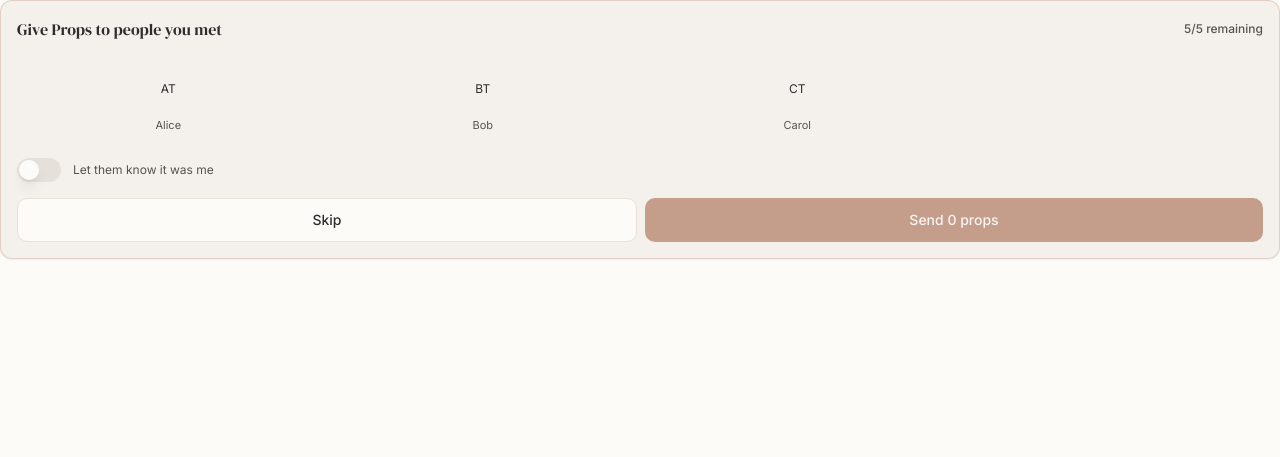
Test: GivePropsFlow › renders attendees after loading and shows 6 prop types
Expected: the text "Alice" is shown, [155, 118, 181, 132]
Expected: the text "Bob" is shown, [472, 118, 493, 132]
# Click on Alice to show prop types
Click the button "AT Alice" at (168, 99), box [17, 57, 320, 142]
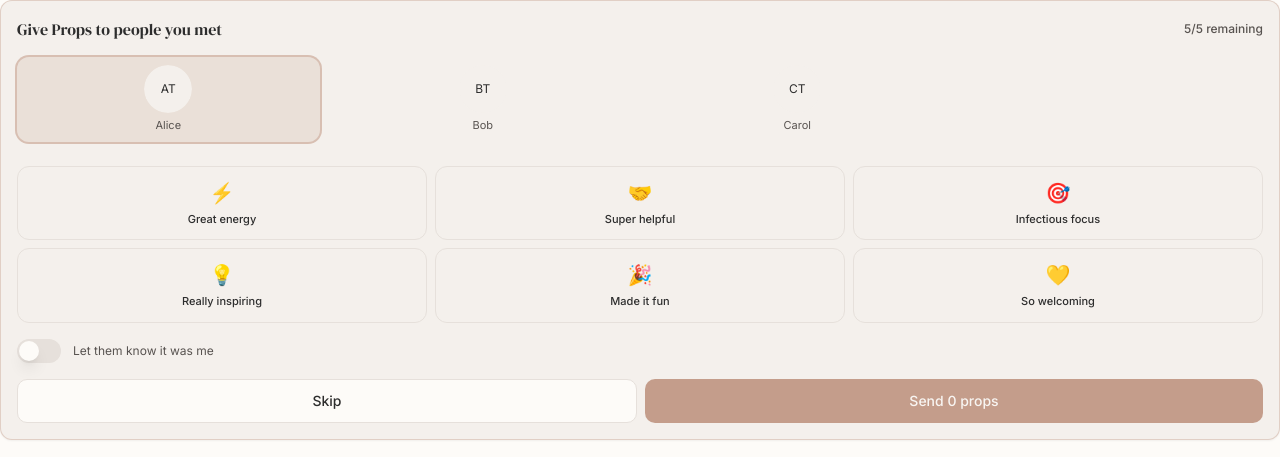
Expected: the text "Great energy" is shown, [188, 210, 256, 227]
Expected: the text "Super helpful" is shown, [605, 210, 675, 227]
Expected: the text "Infectious focus" is shown, [1016, 210, 1100, 227]
